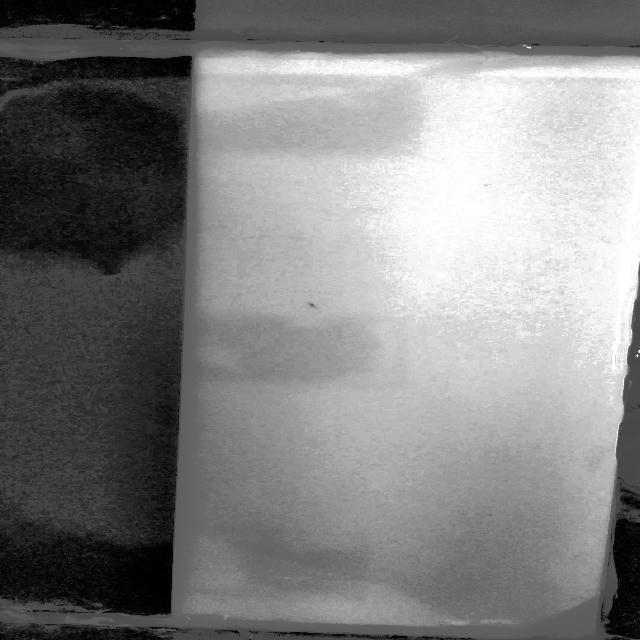shrimp: (301, 300, 321, 311)
